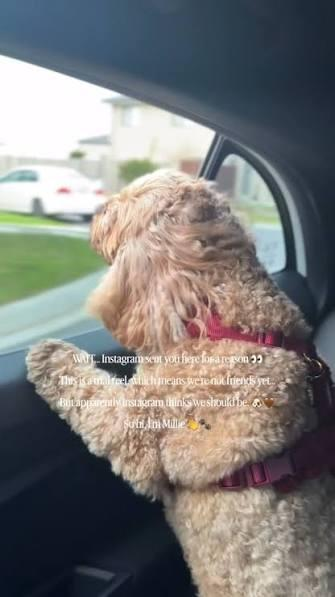adult_dog: (25, 167, 335, 597)
